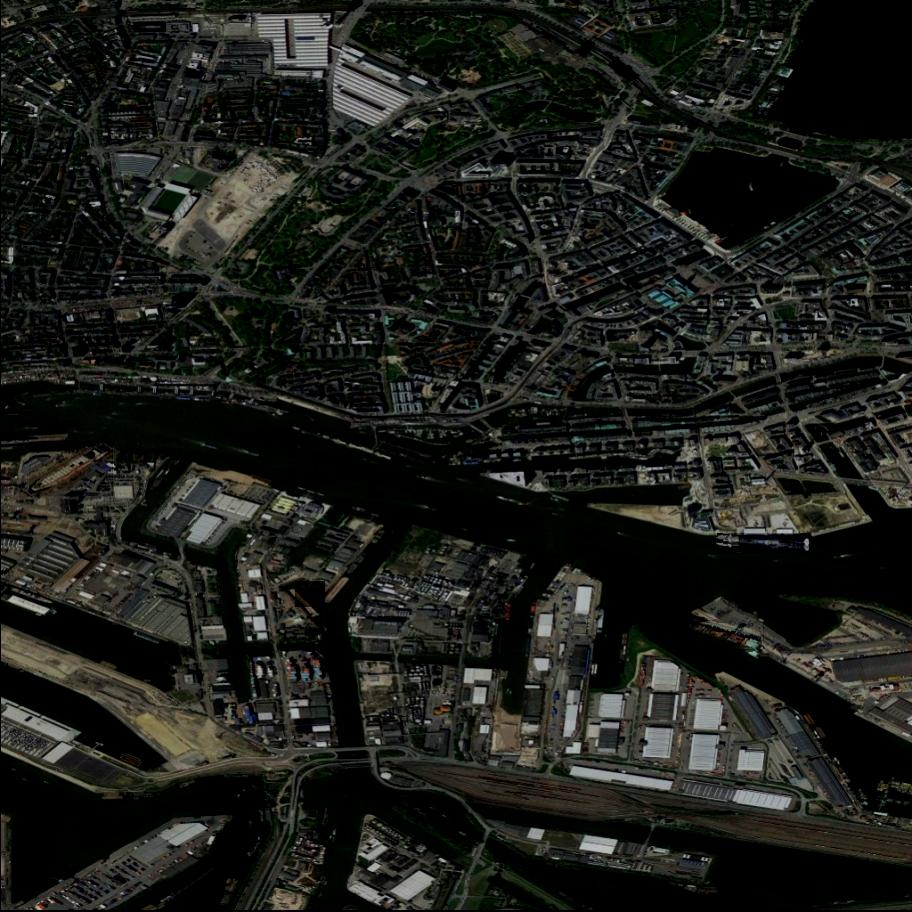ship: (30, 438, 113, 500), (690, 622, 764, 651), (716, 533, 811, 554), (295, 580, 326, 609)
